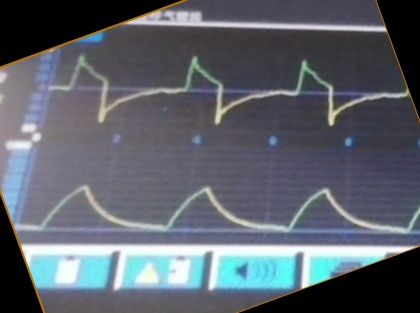Normal Flow: (52, 48, 405, 130)
Normal Volume: (17, 179, 420, 240)
